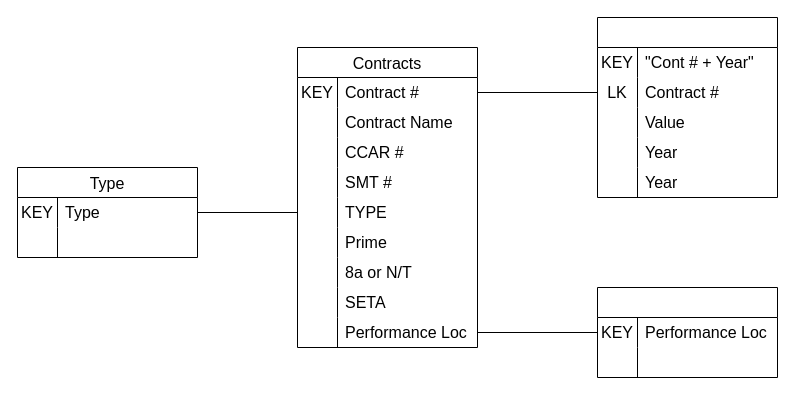
Some shapes in this 795 by 395 pixel diagram are drawn without their labels. Here are the shapes that lost their labels. From the top down, the box of each, then its label:
(596, 16, 778, 198): Contract Year
(596, 286, 778, 378): Performance Locations
